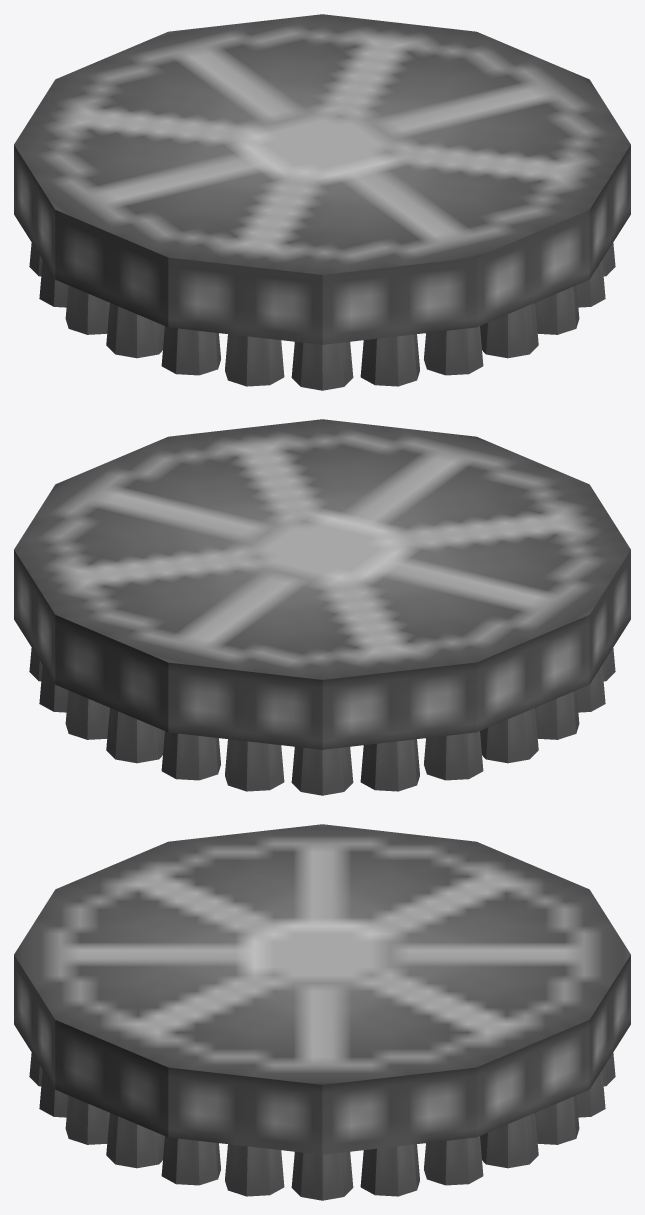
File: mp_t_20_solid_multi.obj
3 renders of one model, top to bottom at view 1: azimuth 30°, elevation 25°; view 2: azimuth 150°, elevation 25°; view 3: azimuth 270°, elevation 25°, orthographic.
Visible parts, largest first — view 1: Cylinder.001; view 2: Cylinder.001; view 3: Cylinder.001.
Part boxes in pixels (<box>): Cylinder.001: <box>14,14,630,390</box>; Cylinder.001: <box>14,419,630,795</box>; Cylinder.001: <box>14,824,630,1200</box>.
Size of the model in its own units: 2 by 0.5 by 2.
